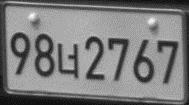2: (83, 35, 105, 80)
6: (132, 38, 155, 84)
7: (156, 38, 179, 85), (107, 37, 129, 82)
8: (33, 32, 55, 77)
9: (10, 31, 31, 74)
너: (56, 42, 80, 79)
